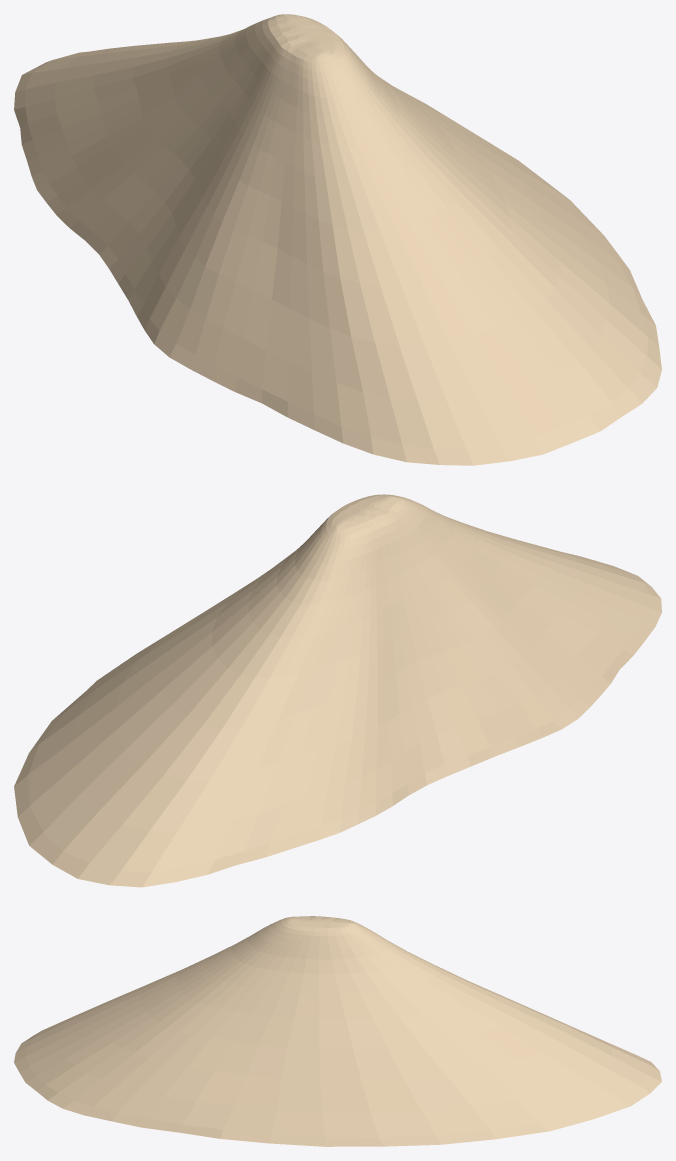
File: island-02-v2.fbx
3 renders of one model, top to bottom at view 1: azimuth 30°, elevation 25°; view 2: azimuth 150°, elevation 25°; view 3: azimuth 270°, elevation 25°, orthographic. The views are drawn at different scales.
Visible parts, largest first — view 1: Cube; view 2: Cube; view 3: Cube.
Part boxes in pixels (x1=…): Cube: x1=14, y1=14, x2=661, y2=465; Cube: x1=14, y1=494, x2=661, y2=887; Cube: x1=14, y1=916, x2=661, y2=1146.
Bounding box in the file's own units: 4274 × 2090 × 8461.
